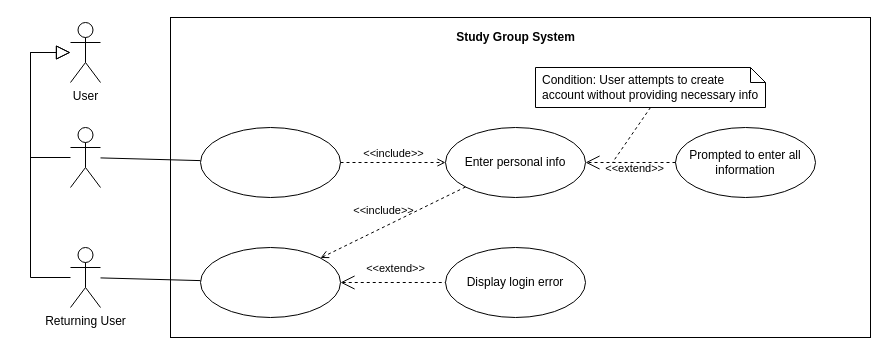
The diagram is 888 pixels wide and 355 high, and some of its shapes have lost their labels. Here are the shapes that lost their labels. From the top down, the centre of each, then its label:
pixel 85 157: New User
pixel 270 162: Create account
pixel 270 282: Log in
